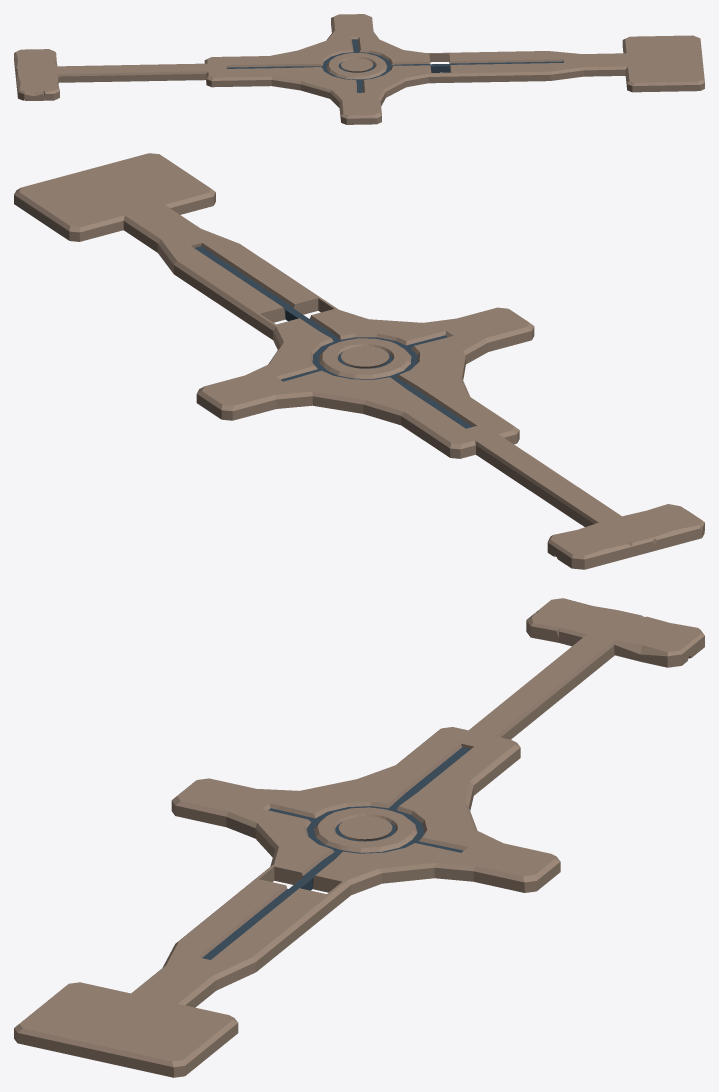
File: Module_2.fbx
The picture shows the model from 3 angles, top to bottom: view 1: azimuth 30°, elevation 25°; view 2: azimuth 150°, elevation 25°; view 3: azimuth 270°, elevation 25°; orthographic projection. The views are drawn at different scales.
Visible parts, largest first — view 1: 立方体.072, 立方体.069; view 2: 立方体.072, 立方体.069; view 3: 立方体.072, 立方体.069.
Boxes of the visible parts, x1,y1,x2,y2 form: 立方体.072: [56, 14, 704, 124]; 立方体.069: [14, 49, 59, 100]; 立方体.072: [14, 153, 623, 526]; 立方体.069: [547, 504, 704, 569]; 立方体.072: [14, 634, 617, 1077]; 立方体.069: [526, 598, 704, 667].
Bounding box in the file's own units: 7493 × 4687 × 106.
